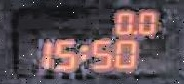-: (130, 28, 137, 34)
0: (112, 38, 137, 69), (110, 10, 132, 34), (137, 10, 155, 35)
1: (40, 40, 50, 67)
5: (88, 38, 112, 69), (54, 39, 74, 69)
X: (77, 44, 87, 58)
